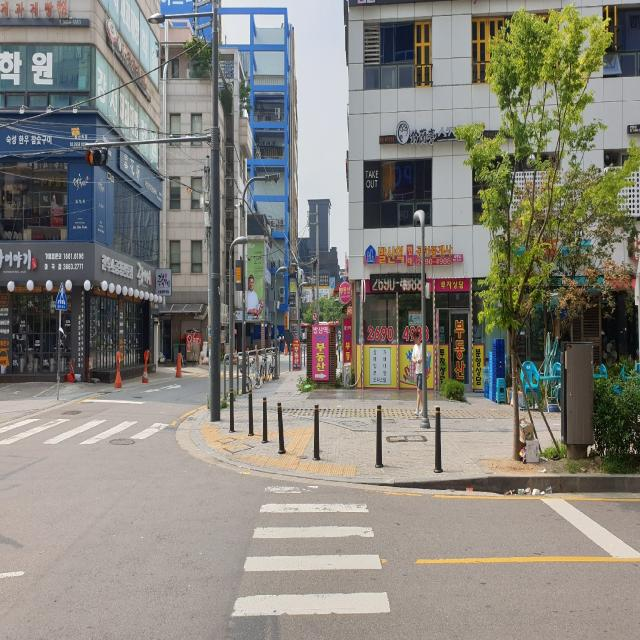횡단보도: (229, 480, 392, 620), (0, 410, 182, 452)
